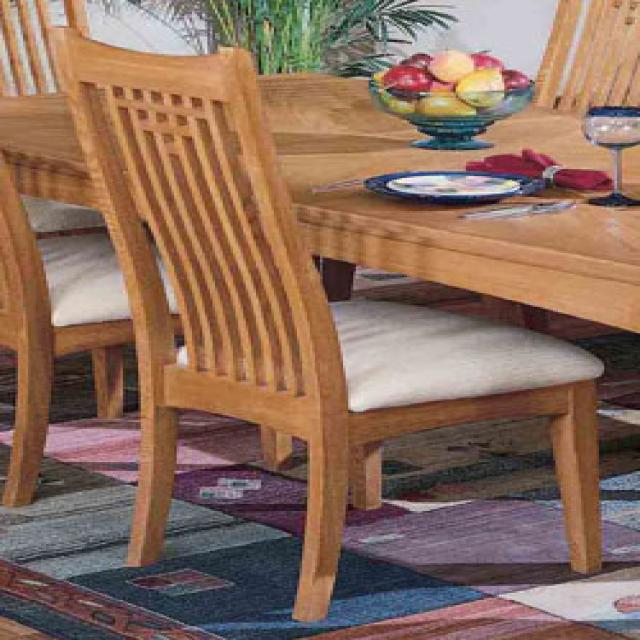chair: (46, 25, 604, 627)
